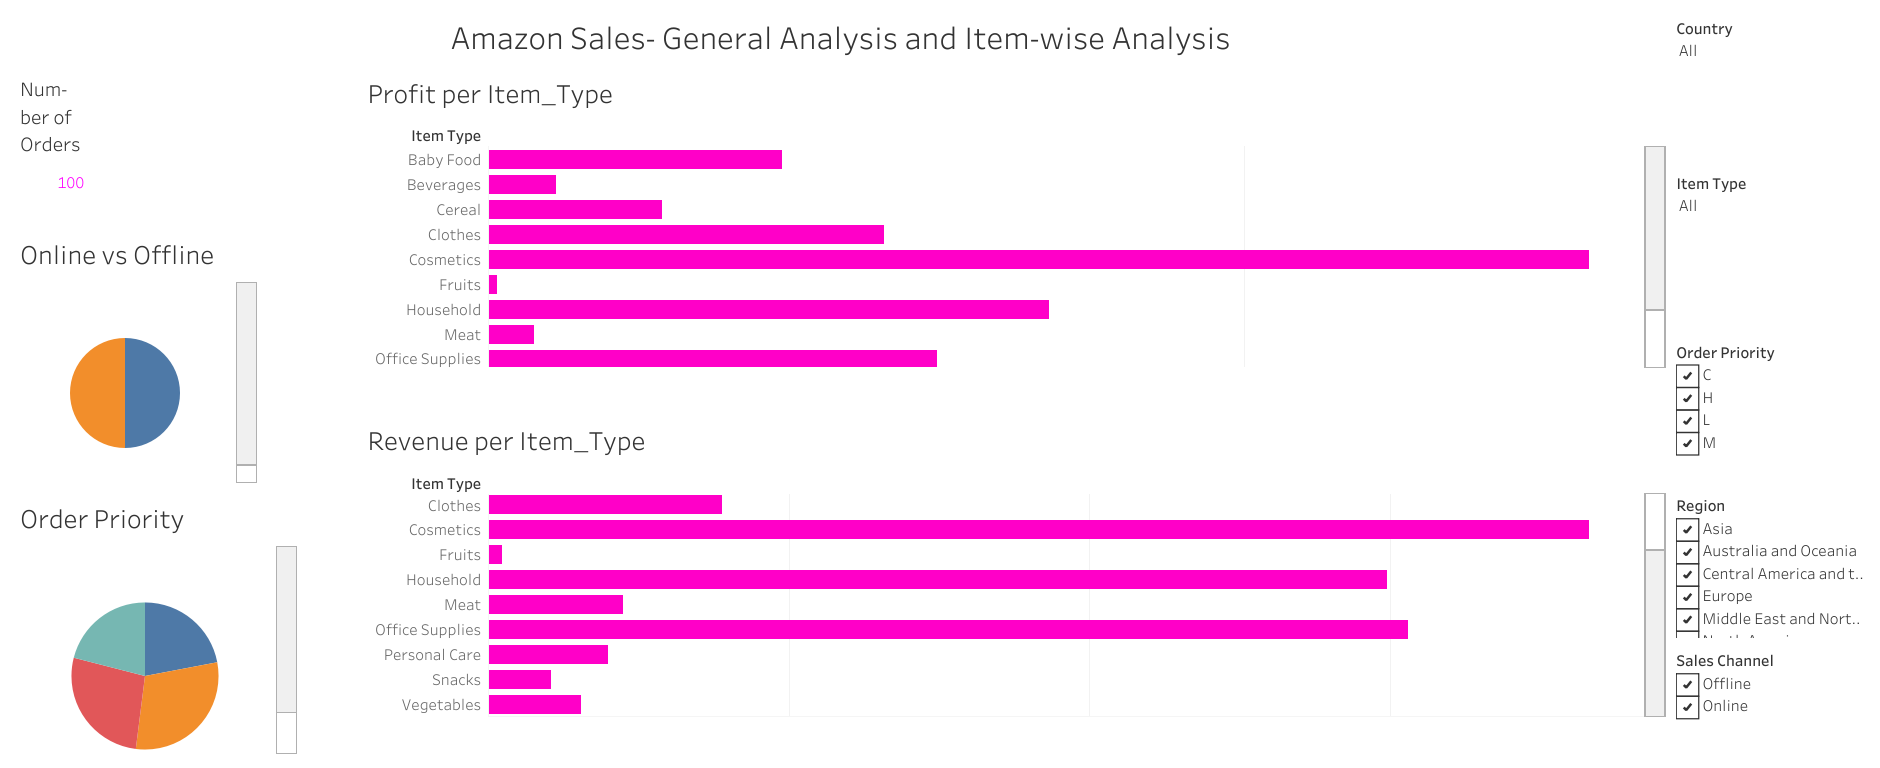

This screenshot's page, from the dashboard's own definition file:
{"tool":"tableau","page":{"name":"Amazon Sales- General Analysis and Item-wise Analysis","canvas":[1000,1000],"units":"permille","ordinal":1},"visuals":[{"type":"title","box":[4.8,10,893.8,62.4]},{"type":"filter","title":"Number of Orders","param":"[federated.1z01n5t024iz7p15iogyr0p1gq9p].[none:Country:nk]","box":[898.6,10,96.6,154.8]},{"type":"worksheet","title":"Number of Orders","mark":"Automatic","box":[4.8,72.4,187.1,212.2]},{"type":"worksheet","title":"Profit per Item_Type","mark":"Automatic","rows":["Item Type"],"cols":["Total Profit"],"box":[191.9,72.4,706.7,458.8]},{"type":"filter","title":"Number of Orders","param":"[federated.1z01n5t024iz7p15iogyr0p1gq9p].[none:Item Type:nk]","box":[898.6,164.8,96.6,168.5]},{"type":"worksheet","title":"Online vs Offline","mark":"Pie","box":[4.8,284.6,187.1,348.3]},{"type":"filter","title":"Number of Orders","param":"[federated.1z01n5t024iz7p15iogyr0p1gq9p].[none:Order Priority:nk]","box":[898.6,333.3,96.6,188.5]},{"type":"filter","title":"Number of Orders","param":"[federated.1z01n5t024iz7p15iogyr0p1gq9p].[none:Region:nk]","box":[898.6,521.9,96.6,274.7]},{"type":"worksheet","title":"Revenue per Item_Type","mark":"Automatic","rows":["Item Type"],"cols":["Total Revenue"],"box":[191.9,531.2,706.7,458.8]},{"type":"worksheet","title":"Order Priority","mark":"Pie","box":[4.8,633,187.1,357.1]},{"type":"filter","title":"Number of Orders","param":"[federated.1z01n5t024iz7p15iogyr0p1gq9p].[none:Sales Channel:nk]","box":[898.6,796.5,96.6,131.1]}]}

Visuals, with their boxes on the dashboard's canvas, which has no fixed pixel size, in thousandths of its width and height (x1, y1, x2, y2). These are canvas units, not pixel positions in the 1880x768 screenshot, which may show the page scaled, cropped or inside an application window:
title: 5/10/899/72
"Number of Orders" filter: 899/10/995/165
"Number of Orders" worksheet: 5/72/192/285
"Profit per Item_Type" worksheet: 192/72/899/531
"Number of Orders" filter: 899/165/995/333
"Online vs Offline" worksheet (Pie marks): 5/285/192/633
"Number of Orders" filter: 899/333/995/522
"Number of Orders" filter: 899/522/995/797
"Revenue per Item_Type" worksheet: 192/531/899/990
"Order Priority" worksheet (Pie marks): 5/633/192/990
"Number of Orders" filter: 899/796/995/928
